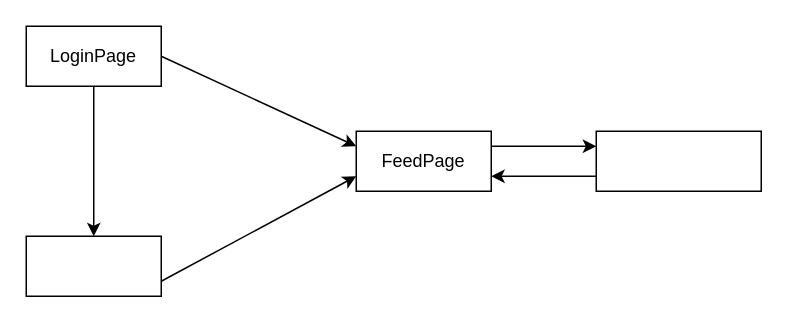
Image size: 788x323. Some labels were removed from this diagram. Here are the shapes that lost their labels. From the top down, the centre of each, then its label:
At (x=678, y=160): "PostDetailsPage".
At (x=93, y=265): "SignupPage".
